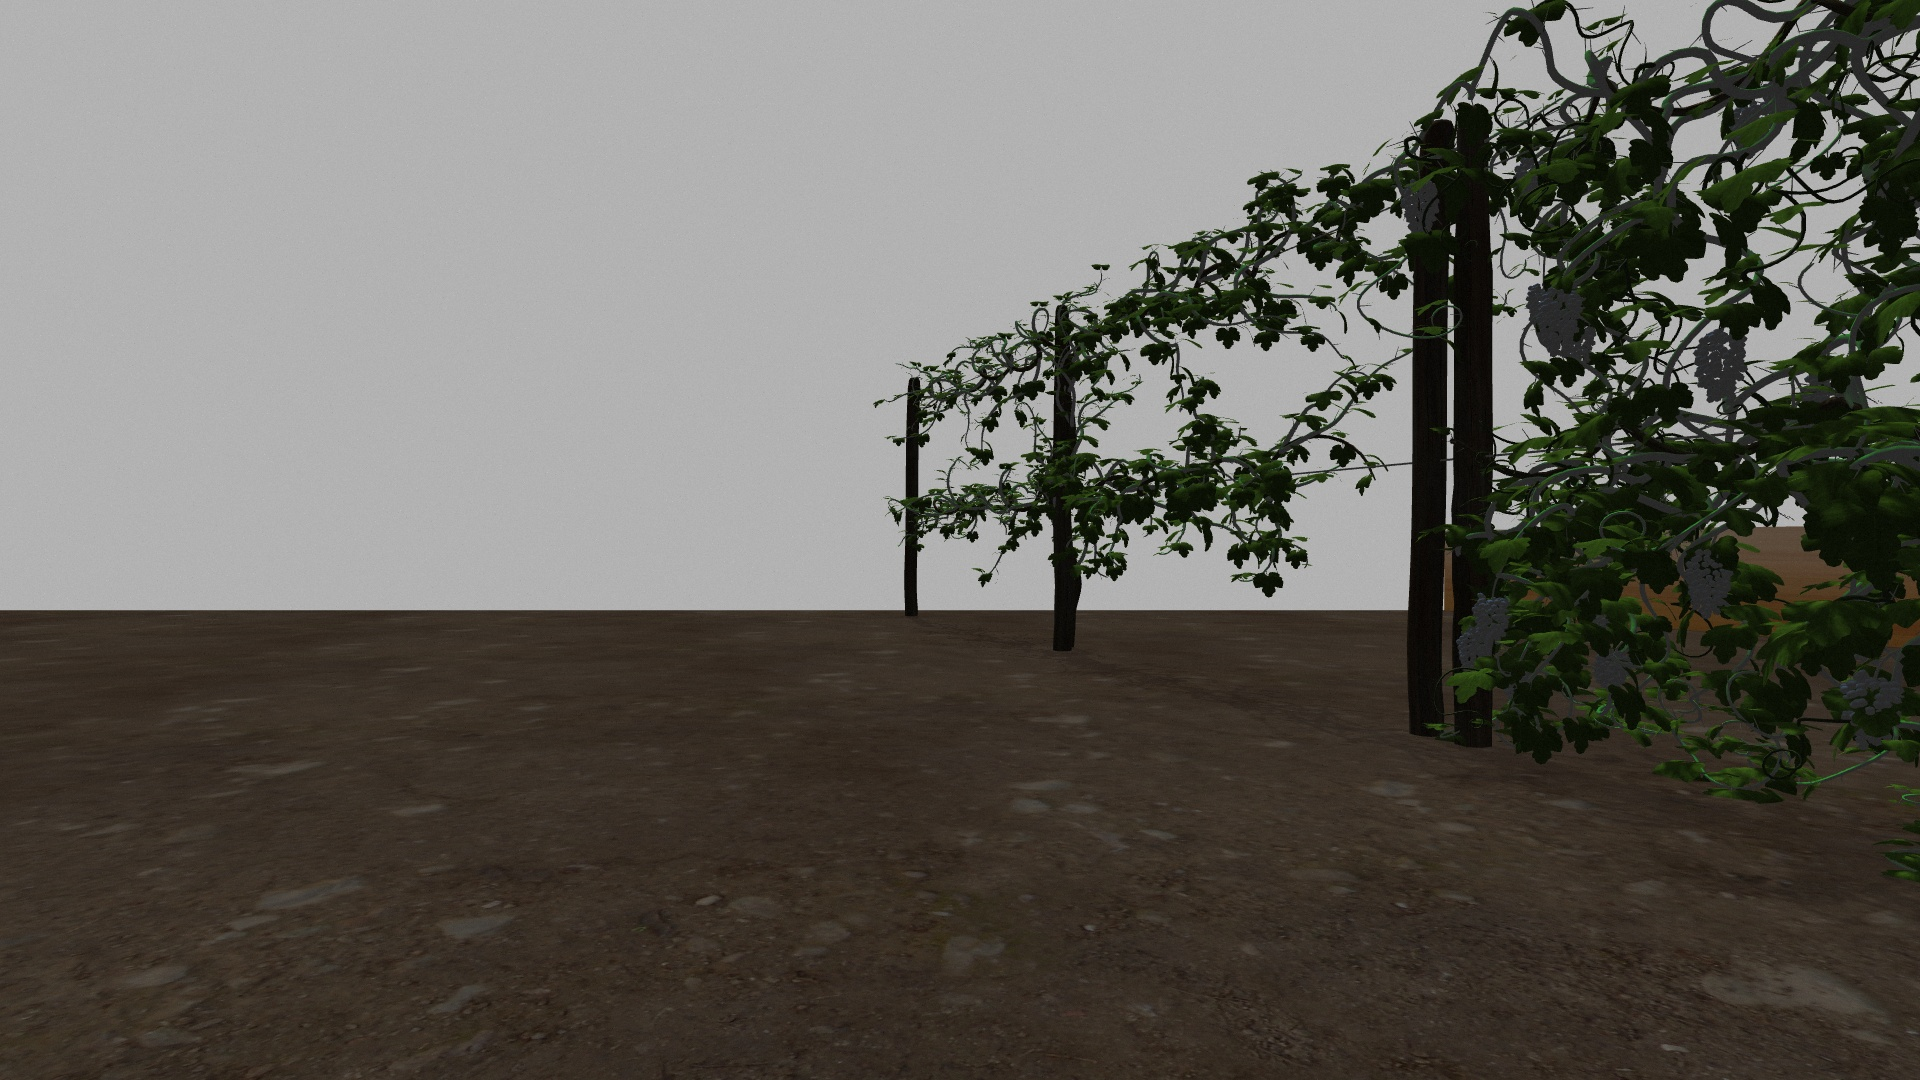grape: (1840, 669, 1903, 752), (1526, 281, 1584, 357), (1693, 328, 1749, 404), (1684, 549, 1733, 621), (1400, 181, 1440, 235), (1470, 592, 1509, 644), (1456, 632, 1487, 670), (1593, 653, 1626, 688)
